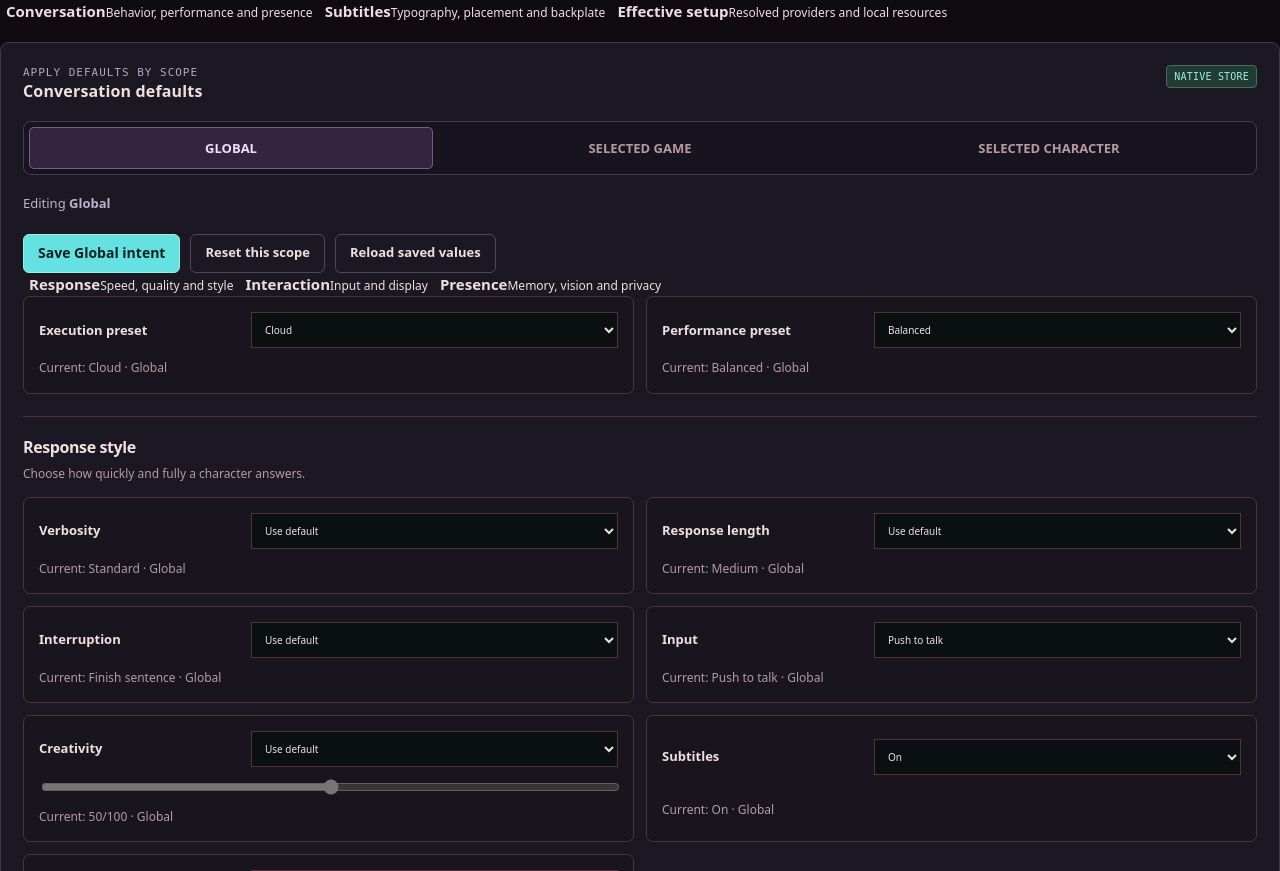
Test: native product preferences › renders effective inheritance, egress, migration, and authority truth
Expected: the dropdown labelled "Execution preset" shows "Cloud", [251, 312, 618, 348]
Expected: the dropdown labelled "Performance preset" shows "Balanced", [874, 312, 1241, 348]
Click the button "Subtitles". click: click(465, 12)
box: [319, 0, 611, 24]
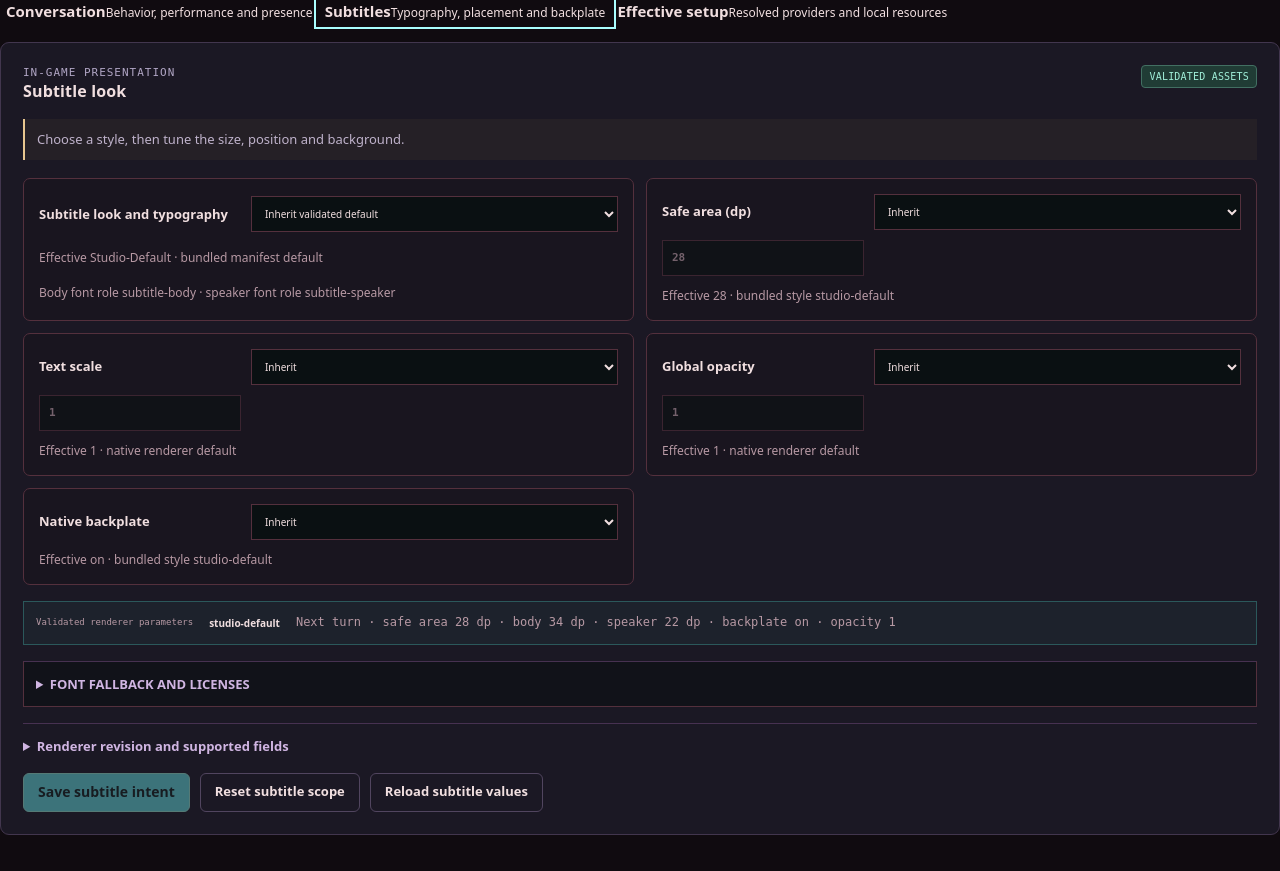
Now the element labelled "Validated renderer parameters" is shown, box [23, 601, 1257, 645]
Click the button "Effective setup". click: click(782, 12)
box: [611, 0, 953, 24]
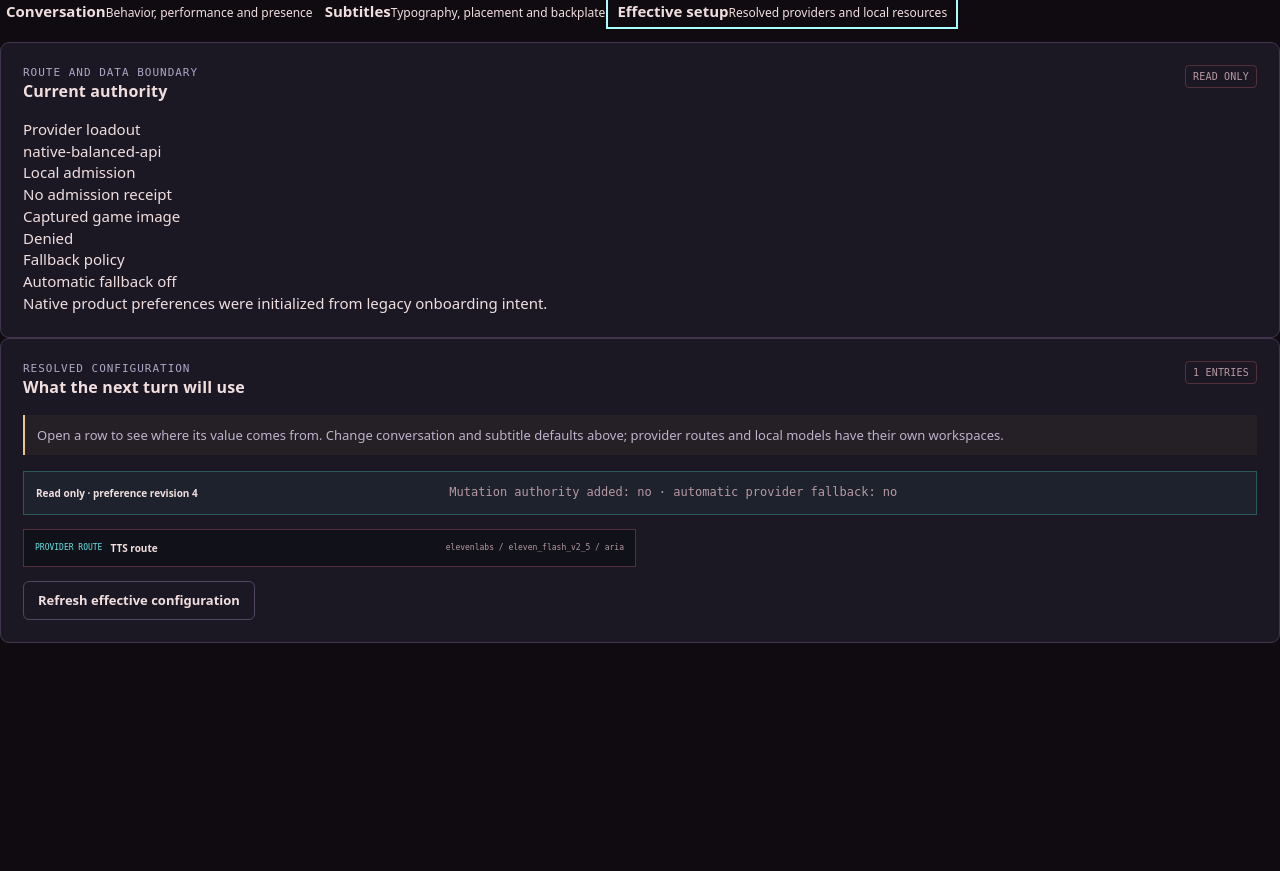
Now the text "native-balanced-api" is shown, box [23, 141, 161, 161]
Now the text "No admission receipt" is shown, box [23, 184, 172, 204]
Now the text "initialized from legacy onboarding intent" is shown, box [23, 293, 547, 313]
